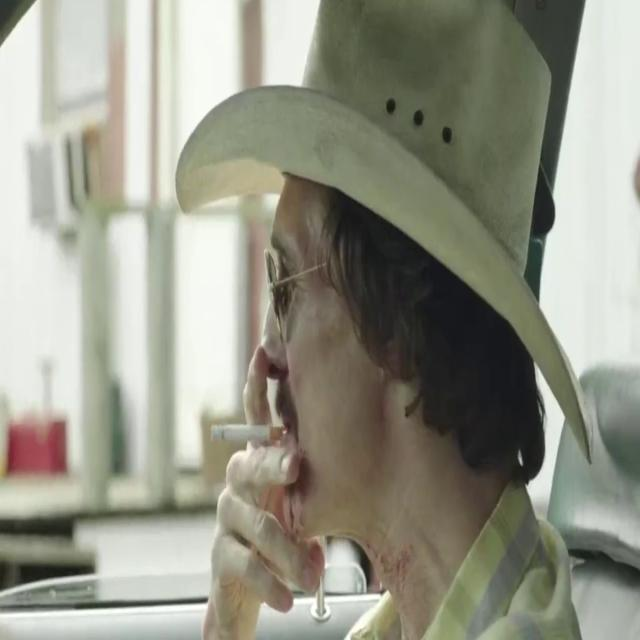Smooking: (205, 408, 285, 458)
